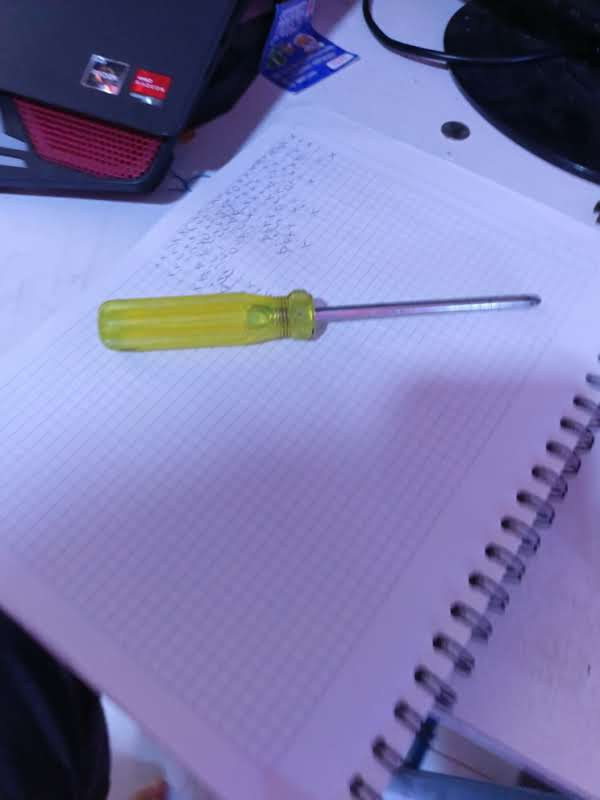Destornillador: (99, 289, 539, 350)
